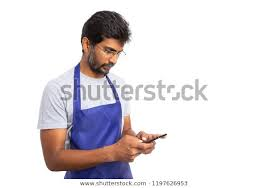Indian_Male: (85, 19, 135, 74)
